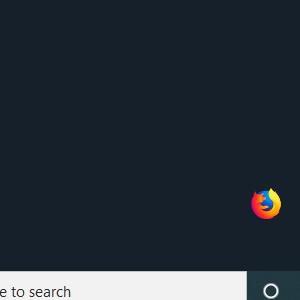firefox: (250, 187, 282, 220)
